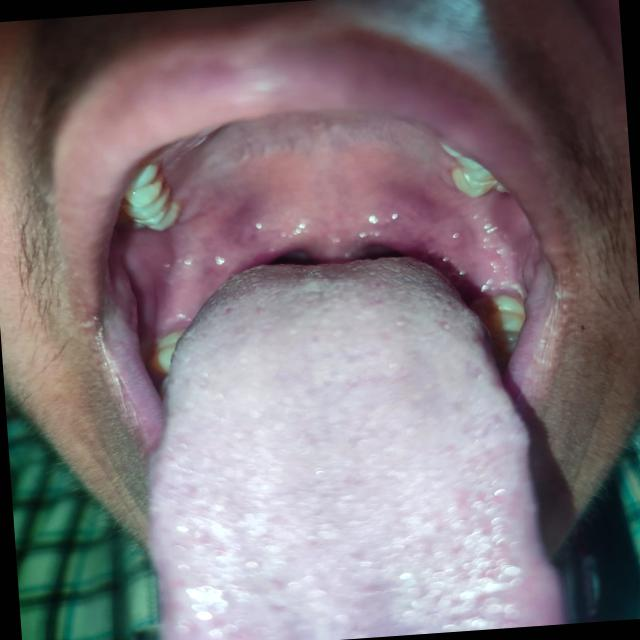No Cancer: (91, 99, 520, 436)
